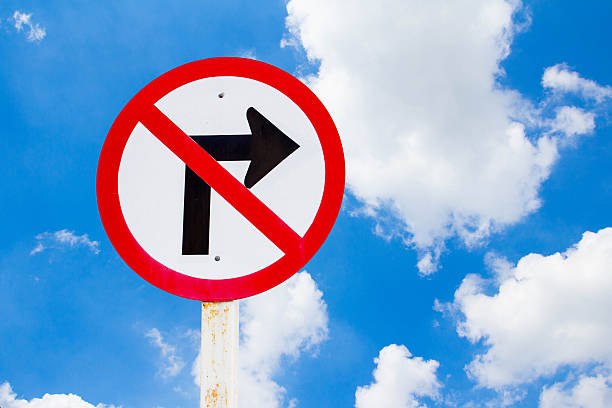saga_girilmez: (92, 57, 344, 305)
